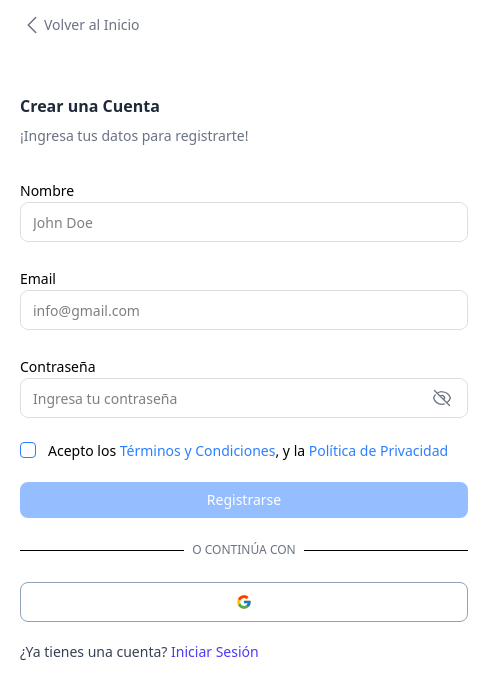
Authentication Integration Flow › should allow a user to sign up and be redirected
# User fills out the form
Type "New User" into the field labelled "Nombre" at (244, 222), box [20,202,468,242]
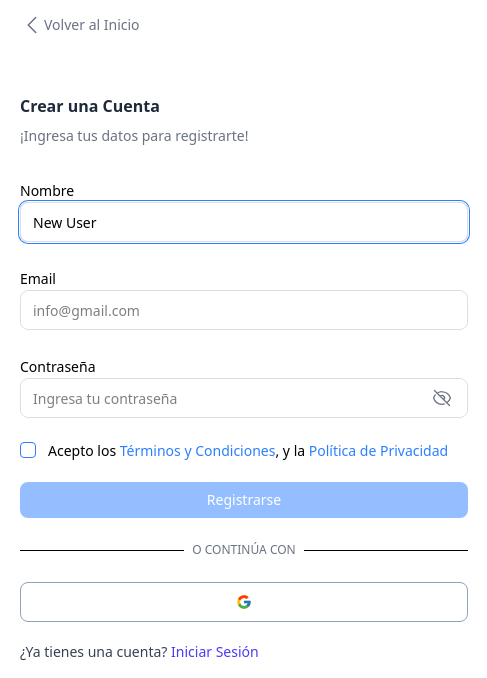
Type "newuser@example.com" into the field labelled "Email" at (244, 310), box [20,290,468,330]
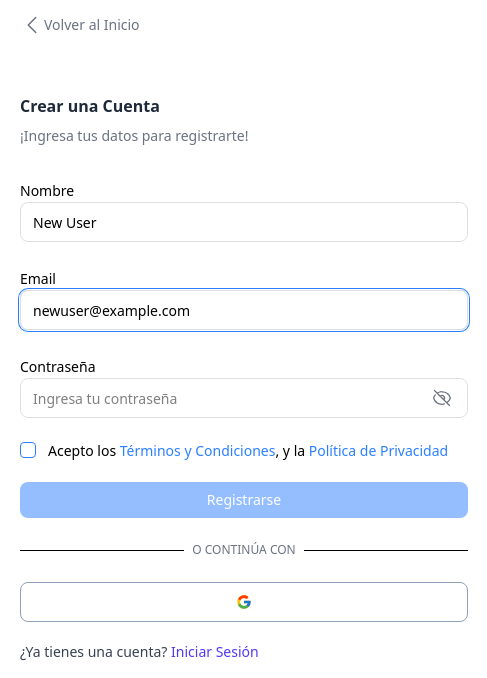
Type "Password123!" into the password field with placeholder "Ingresa tu contraseña" at (244, 398), box [20,378,468,418]
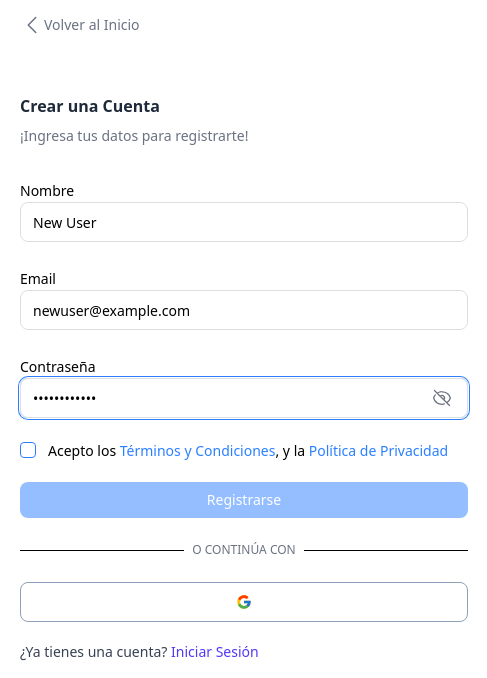
# Accepts terms and submits
Click the checkbox named "acepto los" at (28, 450), box [20,442,36,458]
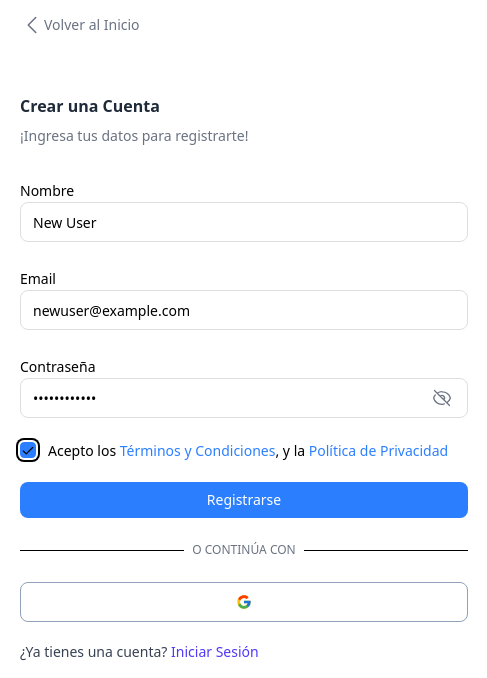
Click the button "Registrarse" at (244, 500), box [20,482,468,518]
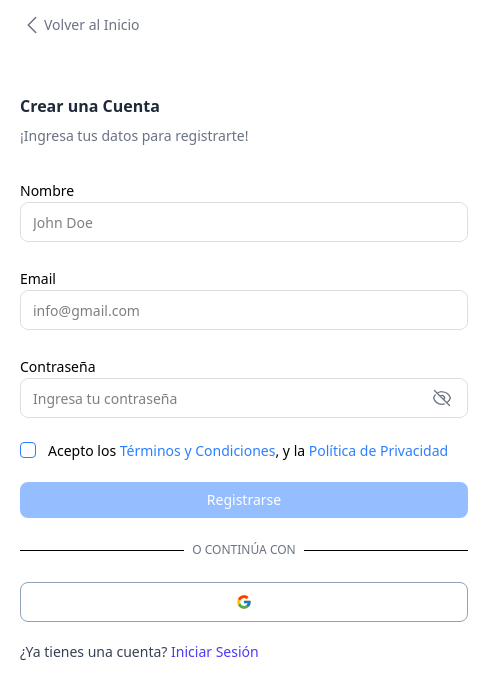
Now the button "Registrarse" is disabled, box [20,482,468,518]
